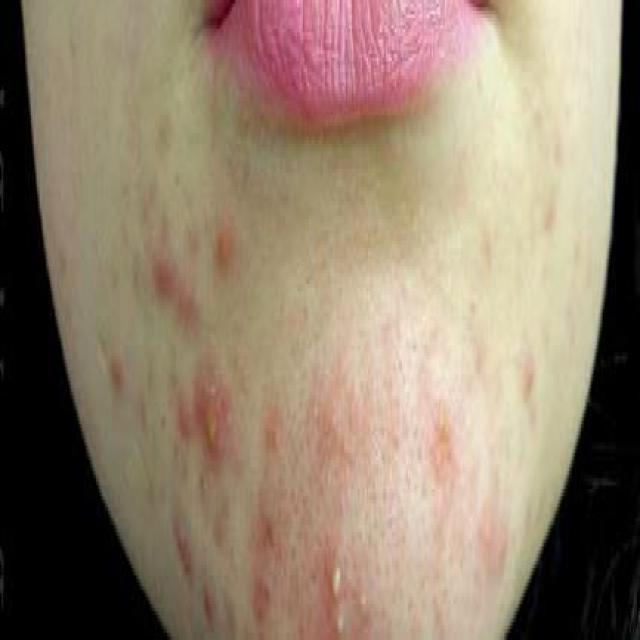Pimples: (248, 485, 284, 640), (193, 348, 230, 461), (157, 208, 195, 312), (476, 500, 510, 582), (211, 194, 238, 281), (172, 499, 200, 572), (434, 403, 456, 478), (332, 600, 372, 640), (538, 183, 562, 241), (108, 334, 128, 402), (265, 414, 288, 454), (520, 352, 538, 399), (328, 560, 343, 600)
